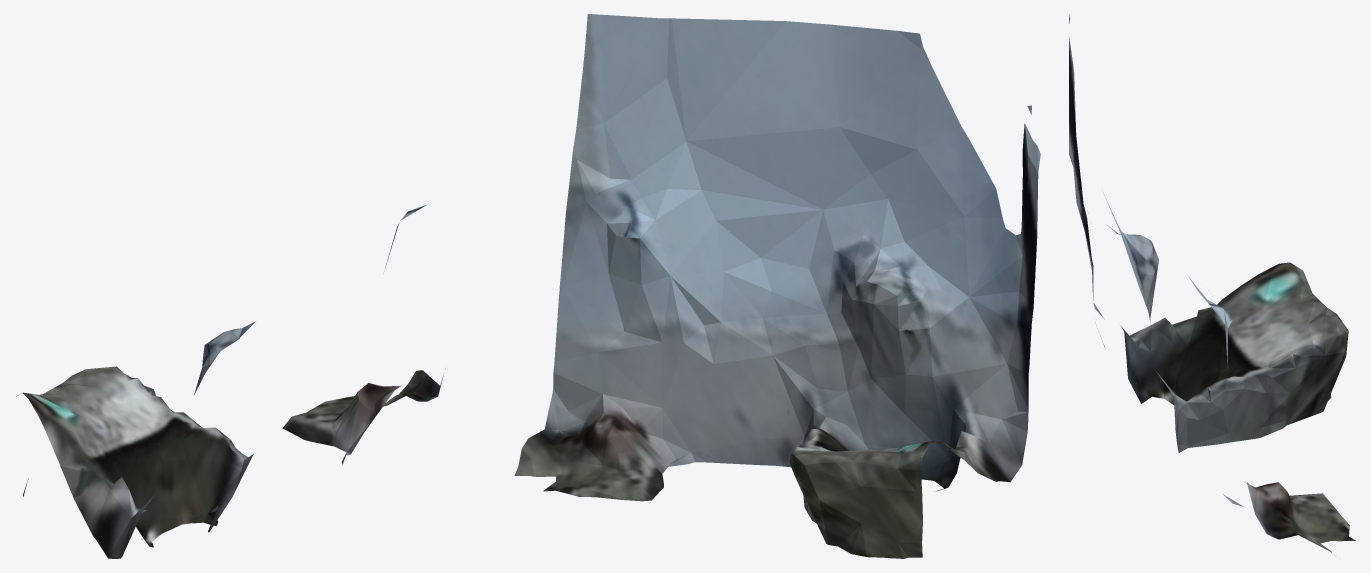
The picture shows the model from 3 angles, left to right: view 1: azimuth 30°, elevation 25°; view 2: azimuth 150°, elevation 25°; view 3: azimuth 270°, elevation 25°; orthographic projection. The views are drawn at different scales.
Bounding box in the file's own units: 1.67 × 1.67 × 1.08.
Materials: 3 (3 with a texture image).
